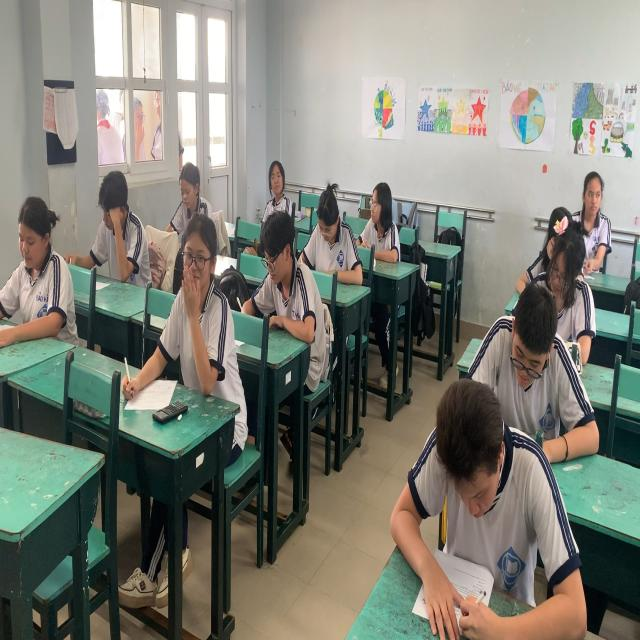not_cheating: (398, 403, 605, 571), (153, 228, 263, 466), (474, 281, 596, 485), (245, 176, 344, 375), (77, 132, 169, 314), (0, 182, 88, 354), (516, 190, 593, 366), (290, 132, 377, 284), (347, 138, 432, 288), (150, 96, 236, 239), (242, 97, 324, 236), (572, 139, 612, 318)
